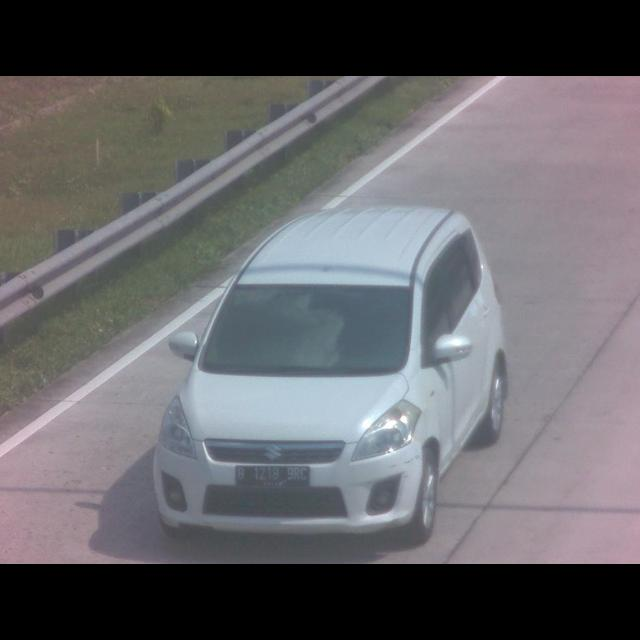plate: (232, 462, 314, 492)
